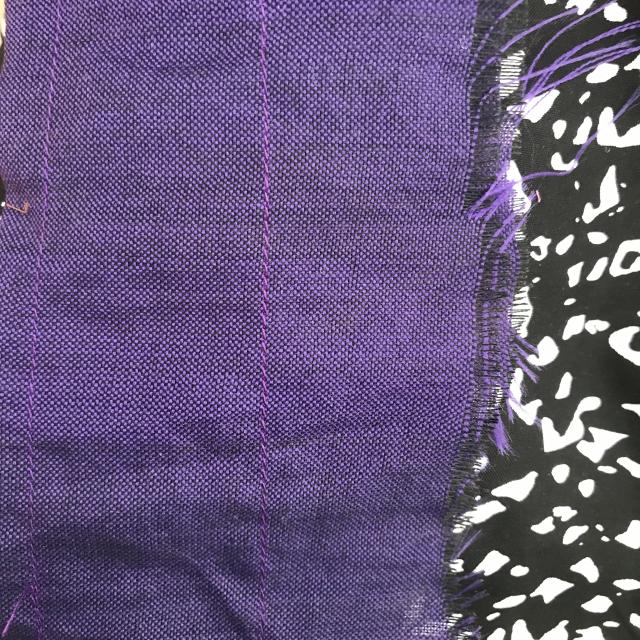good: (248, 324, 290, 506), (22, 378, 50, 534)
